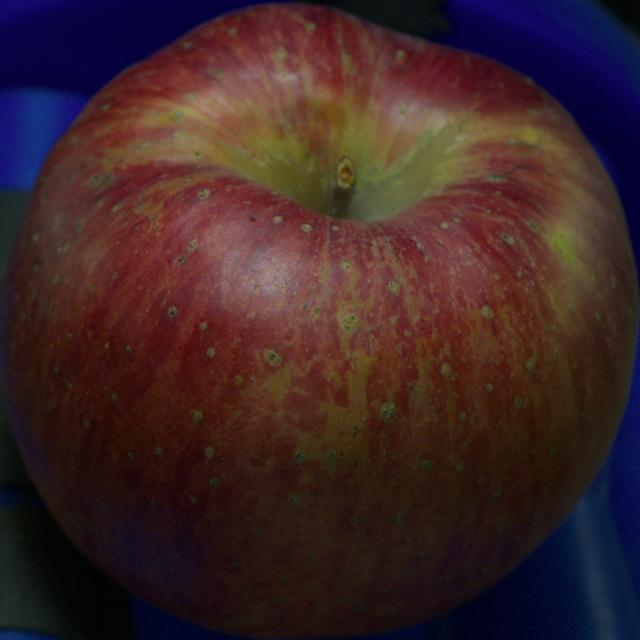apple: (0, 3, 639, 637)
scratch: (488, 166, 530, 181)
